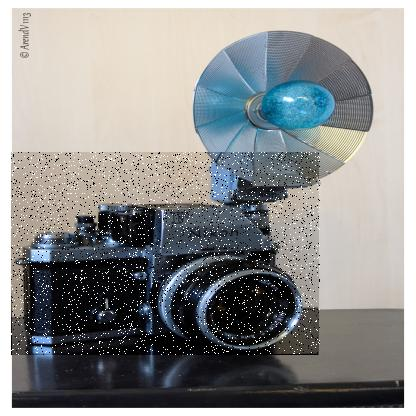Camera: (13, 153, 323, 357)
